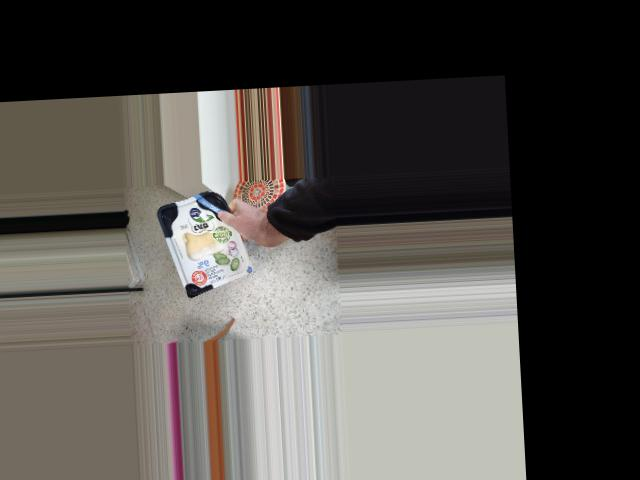cheese: (155, 188, 252, 299)
